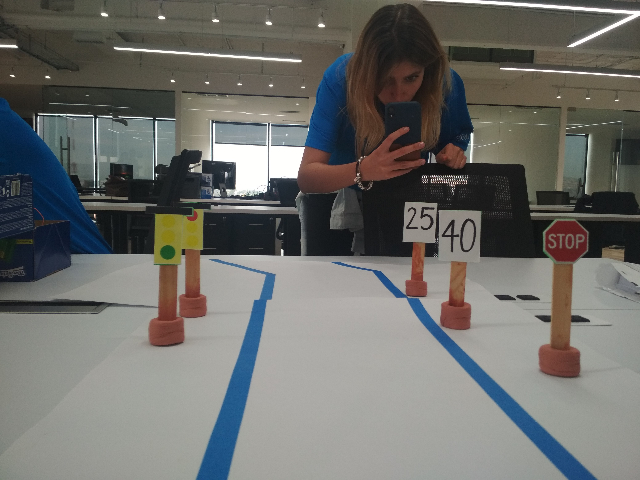Green Traffic Light: (142, 203, 192, 267)
Speed Limit 25: (399, 198, 439, 244)
Speed Limit 40: (437, 209, 485, 265)
Stop Sign: (540, 217, 590, 266)
